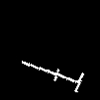double_crochet: (22, 61, 83, 91)
